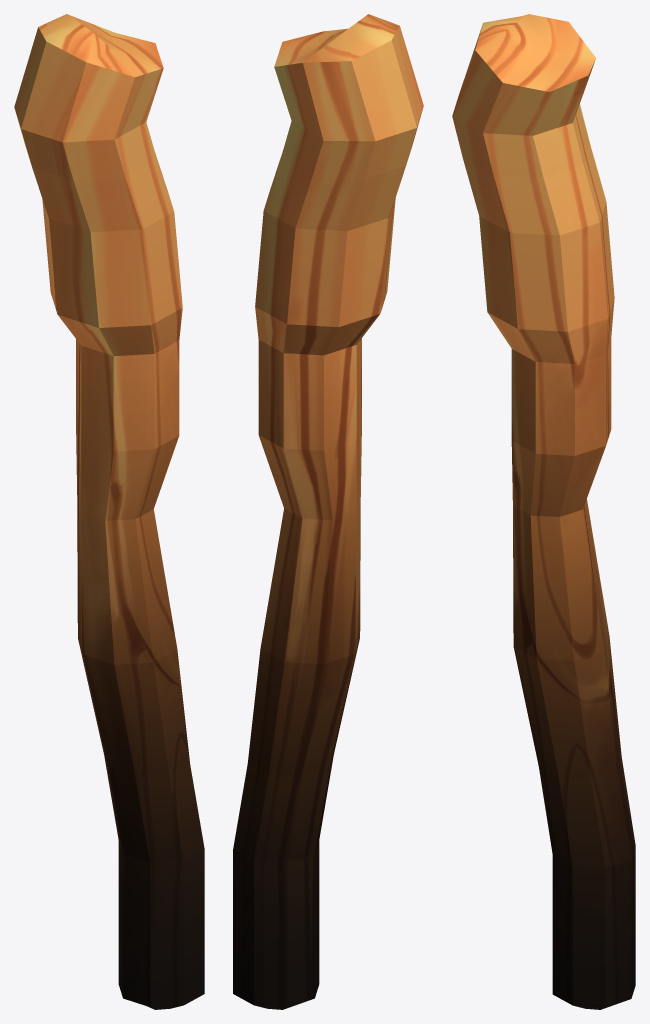
The model's file is Torch.fbx.
3 views of the same model, side by side, from view 1: azimuth 30°, elevation 25°; view 2: azimuth 150°, elevation 25°; view 3: azimuth 330°, elevation 25° (orthographic). The views are drawn at different scales.
Visible parts, largest first — view 1: Torch_1; view 2: Torch_1; view 3: Torch_1.
Part boxes in pixels (x1,y1,x2,y2): Torch_1: (14,14,204,1009); Torch_1: (233,14,423,1009); Torch_1: (452,14,635,1009).
Size of the model in its own units: 1.84 by 9.81 by 1.22.
